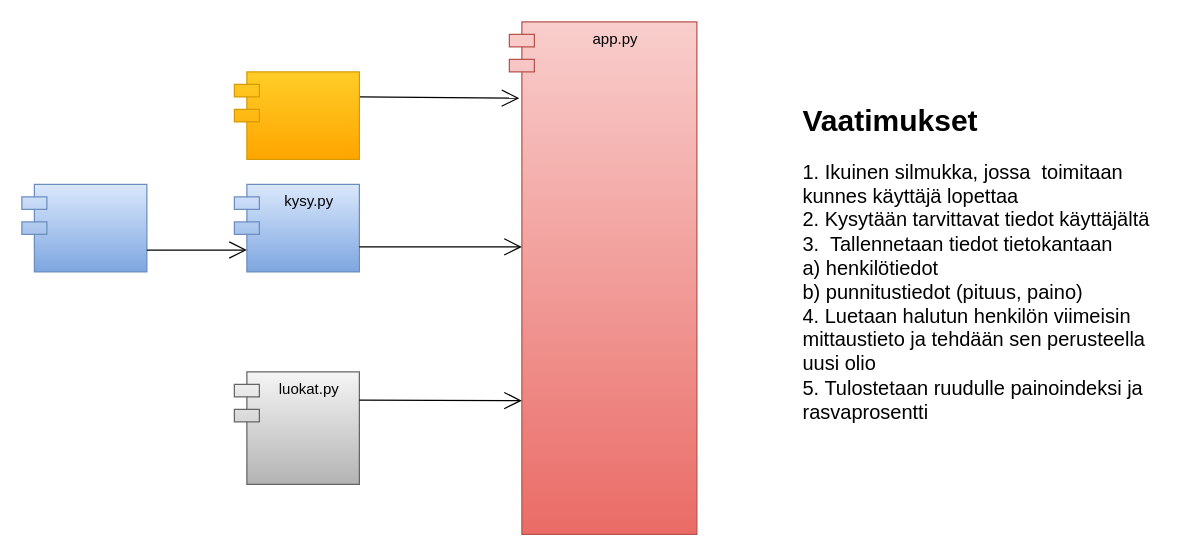
The diagram is 1181 pixels wide and 556 high, and some of its shapes have lost their labels. The centre of each missing label's shape, as x and y in pixels:
"kanta.py" goes at (296,115).
"sanity2.py" goes at (84,227).
